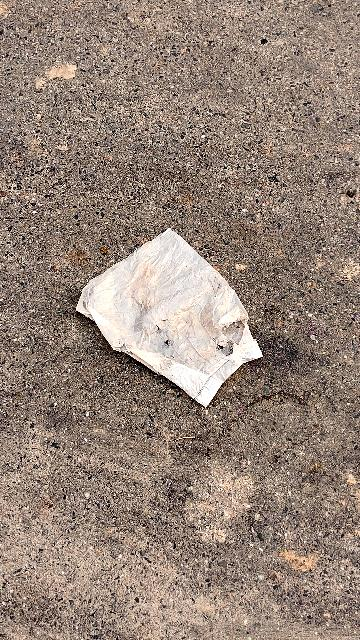polythene: (72, 215, 290, 429)
